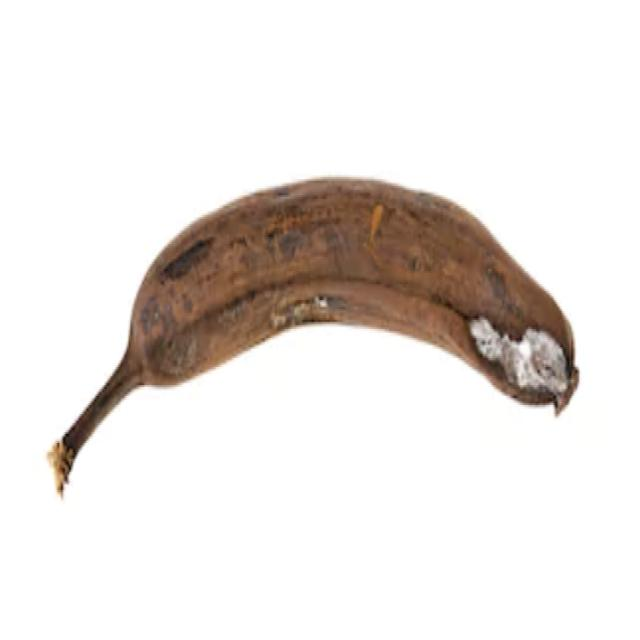rotten-banana: (46, 172, 580, 497)
